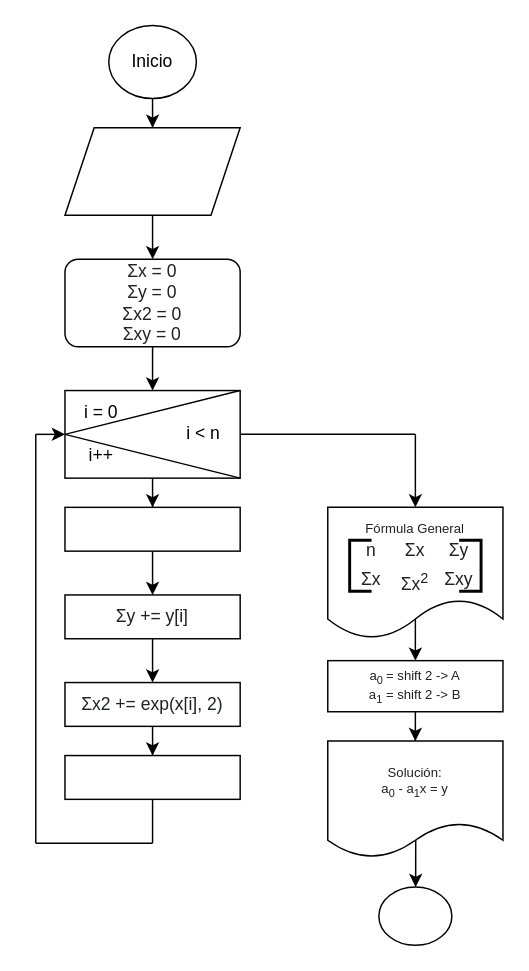
This 529x971 diagram has some shape labels left out. The box of each missing label's shape, as (x1, y1, x2, y2) in pixels:
Fin: (377, 885, 452, 945)
n = int x = float[n] y = float[n]: (64, 126, 240, 215)
Σx += x[i]: (64, 506, 240, 551)
Σxy += x[i] * y[i]: (64, 754, 240, 799)
